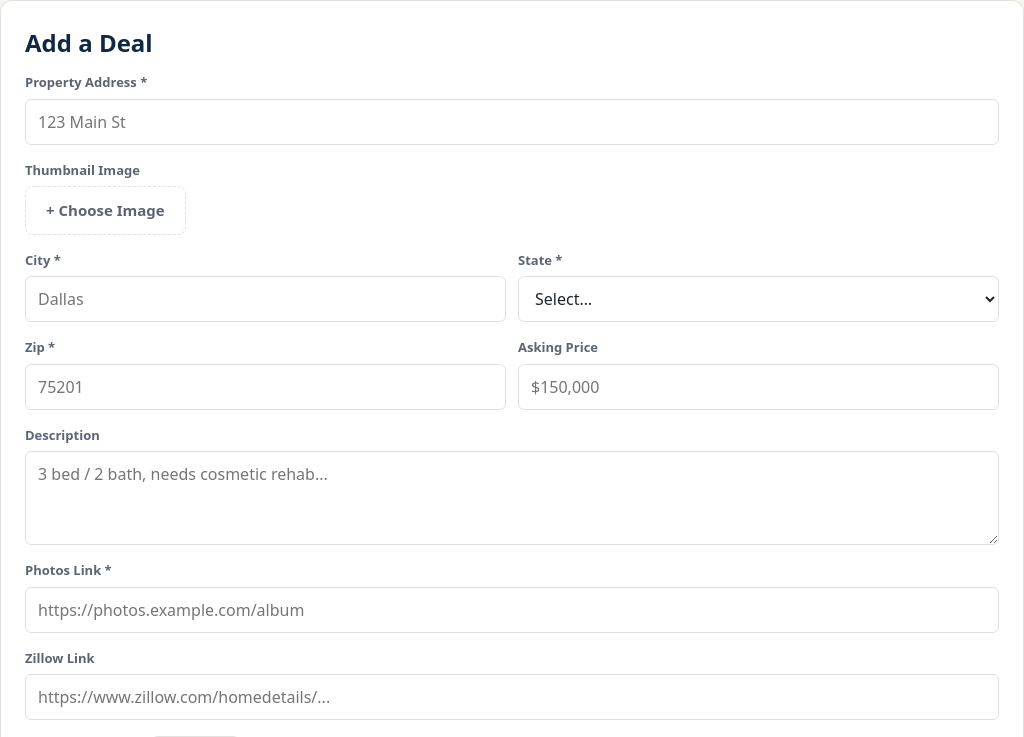
Test case: AddDealForm › formats the price field as currency while typing
The image size is (1024, 737).
In the field labelled "Asking Price": x=758, y=386 x1=518 y1=364 x2=999 y2=410, type "199900"
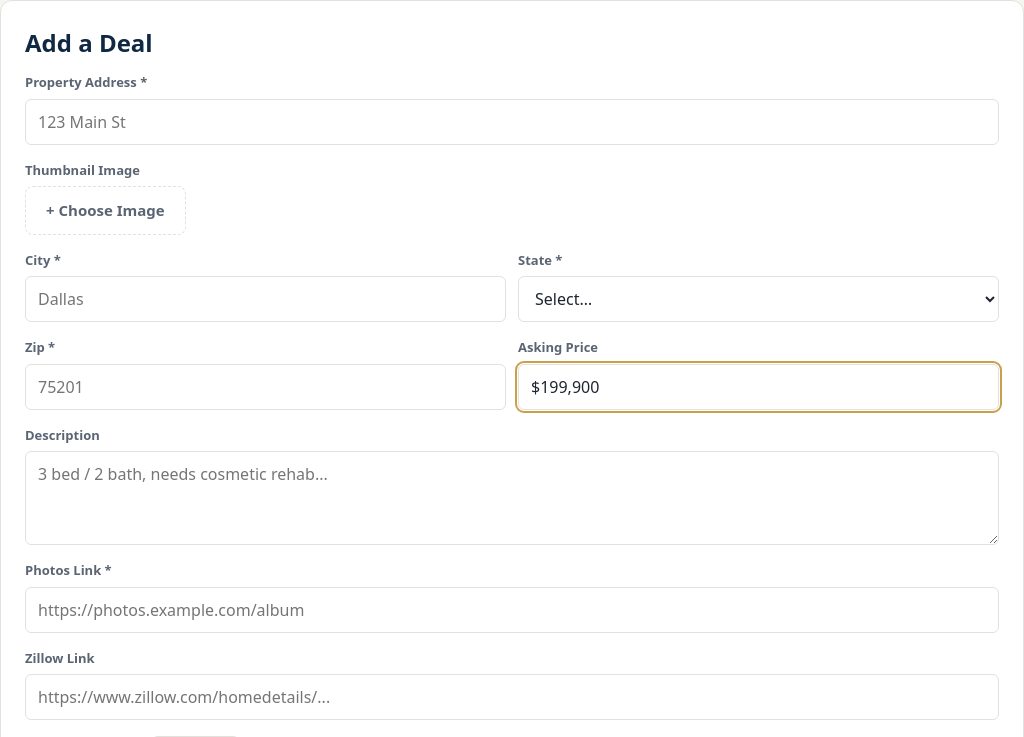
Now the field labelled "Asking Price" holds "$199,900", box x1=518 y1=364 x2=999 y2=410
